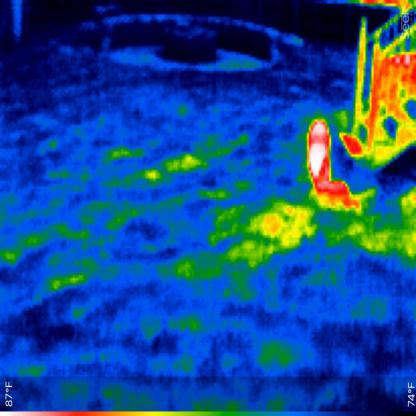dog: (302, 114, 334, 193)
